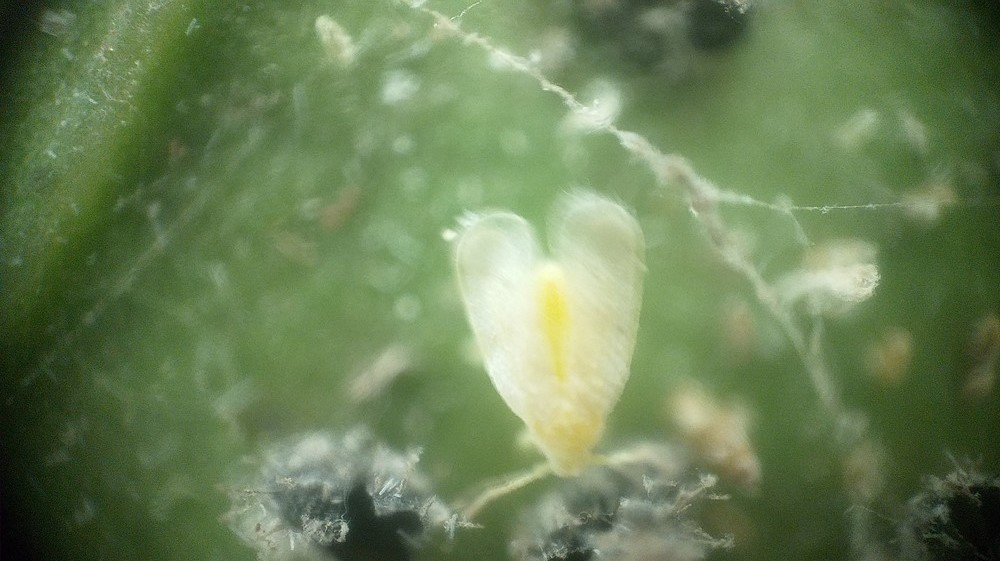Mosca Blanca: (409, 187, 699, 527)
